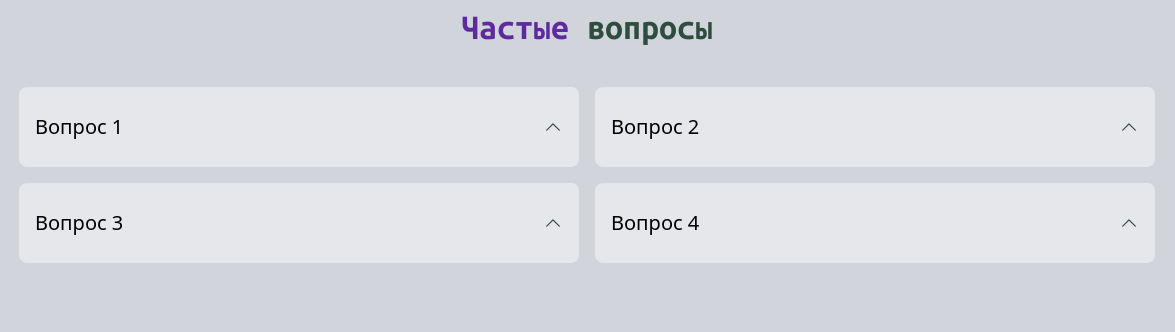
Test: Faq Component › handles multiple independent disclosures
# Раскрываем первый вопрос
Click the button "Вопрос 1": (79, 126) 19,87 -> 579,167
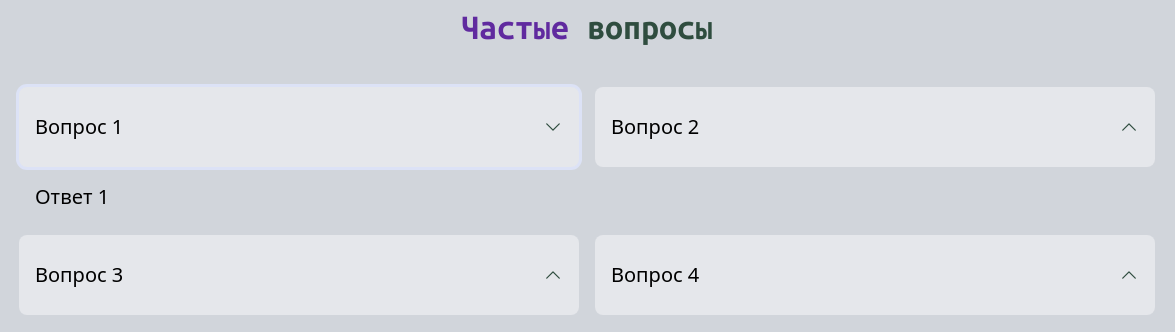
expect the text "Ответ 2" is not shown: met
expect the text "Ответ 1" is shown: met, box 35,183 -> 109,210
# Раскрываем второй вопрос
Click the button "Вопрос 2": (655, 126) 595,87 -> 1155,167
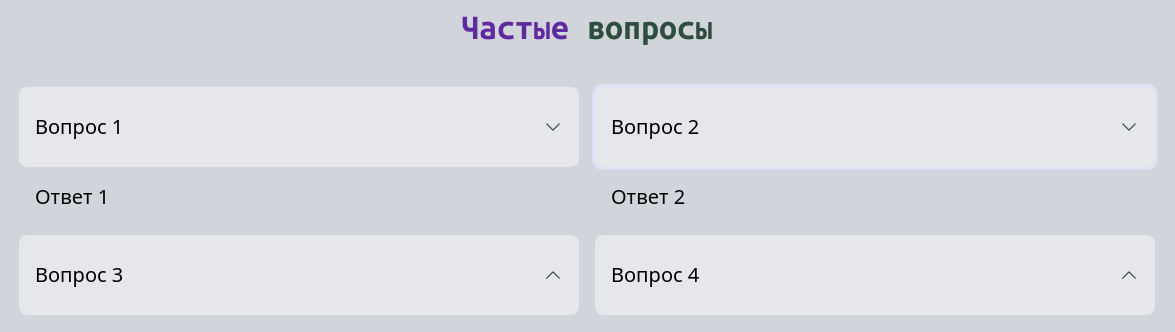
expect the text "Ответ 1" is shown: met, box 35,183 -> 109,210
expect the text "Ответ 2" is shown: met, box 611,183 -> 685,210
# Скрываем первый вопрос
Click the button "Вопрос 1": (79, 126) 19,87 -> 579,167
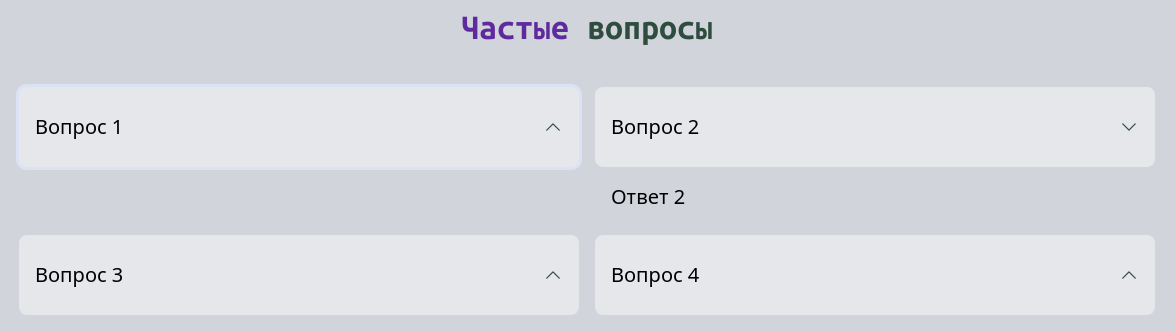
expect the text "Ответ 2" is shown: met, box 611,183 -> 685,210
expect the text "Ответ 1" is gone: met
